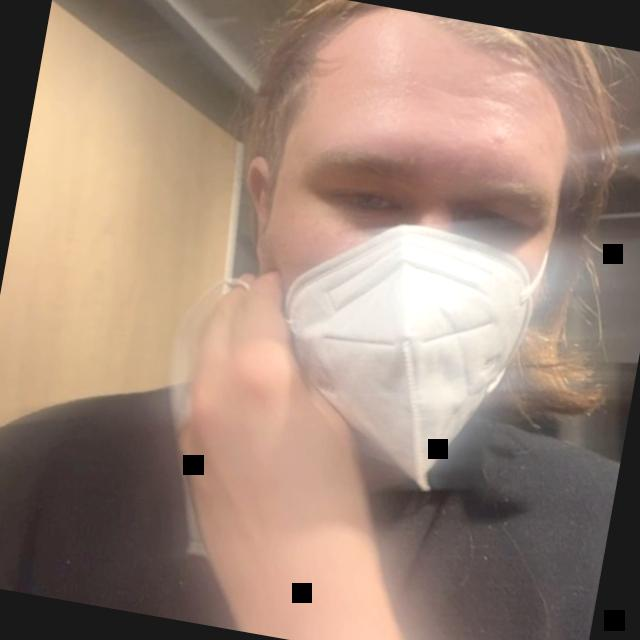Mask: (196, 0, 627, 487)
